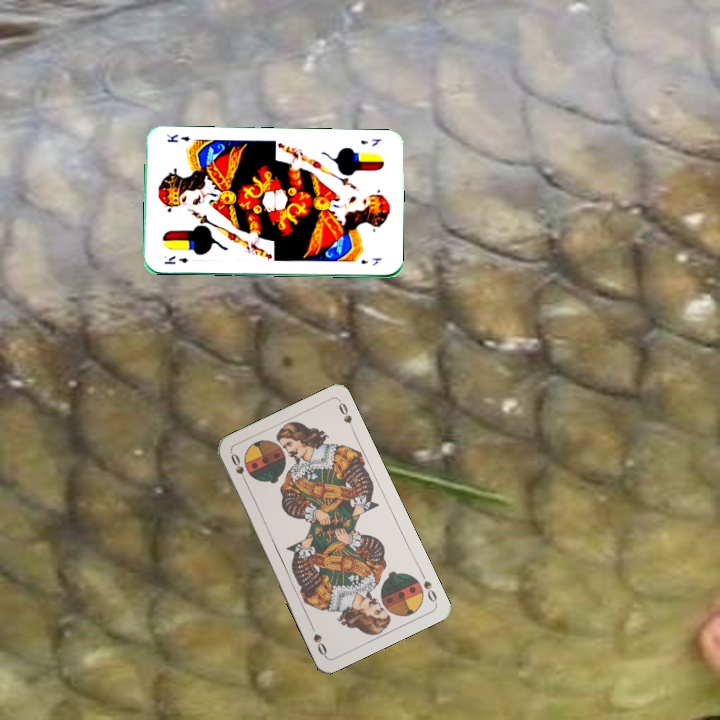EK: (160, 252, 190, 266), (356, 134, 384, 149)
SO: (227, 449, 250, 487), (416, 568, 439, 605)
